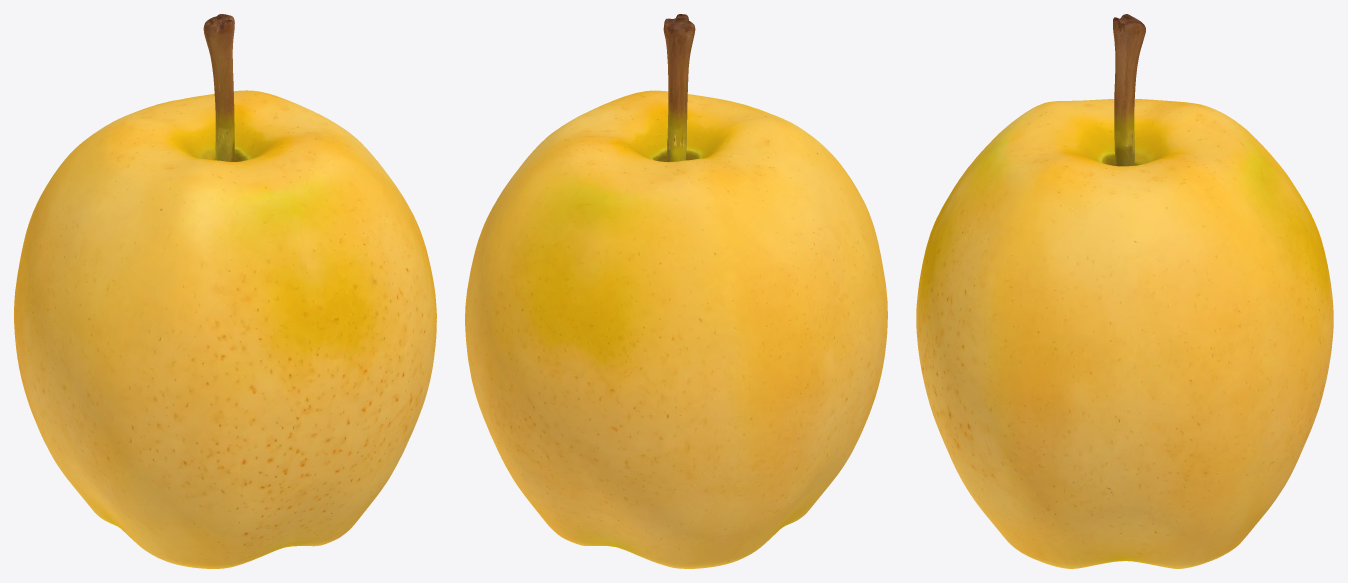
File: kitchen-apple-04.glb
3 renders of one model, left to right at view 1: azimuth 30°, elevation 25°; view 2: azimuth 150°, elevation 25°; view 3: azimuth 270°, elevation 25°, orthographic.
Size of the model in its own units: 1.39 by 1.9 by 1.4.
Materials: 1 (1 with a texture image).
